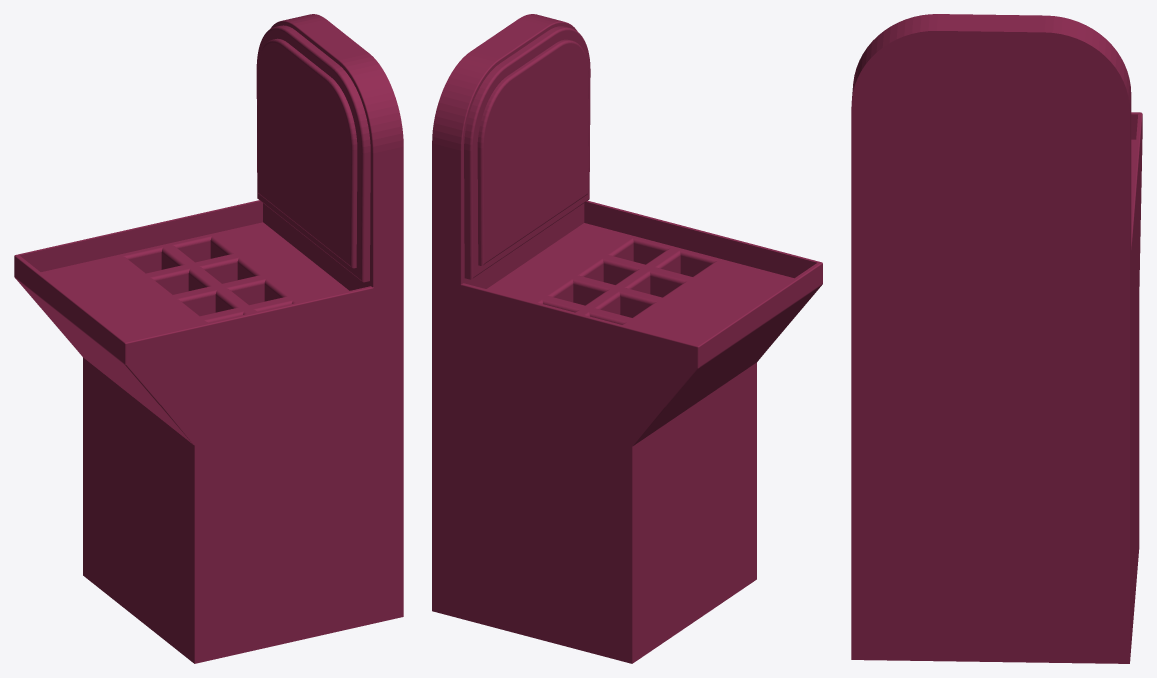
Rendered from support_intermediaire.fbx.
3 views of the same model, side by side, from view 1: azimuth 30°, elevation 25°; view 2: azimuth 150°, elevation 25°; view 3: azimuth 270°, elevation 25° (orthographic). The views are drawn at different scales.
Parts seen in each view (by area): view 1: Cube_Material_0; view 2: Cube_Material_0; view 3: Cube_Material_0.
Part boxes in pixels (x1,y1,x2,y2): Cube_Material_0: [14, 14, 403, 663]; Cube_Material_0: [432, 14, 822, 663]; Cube_Material_0: [851, 14, 1142, 663].
Size of the model in its own units: 531 by 971 by 406.
